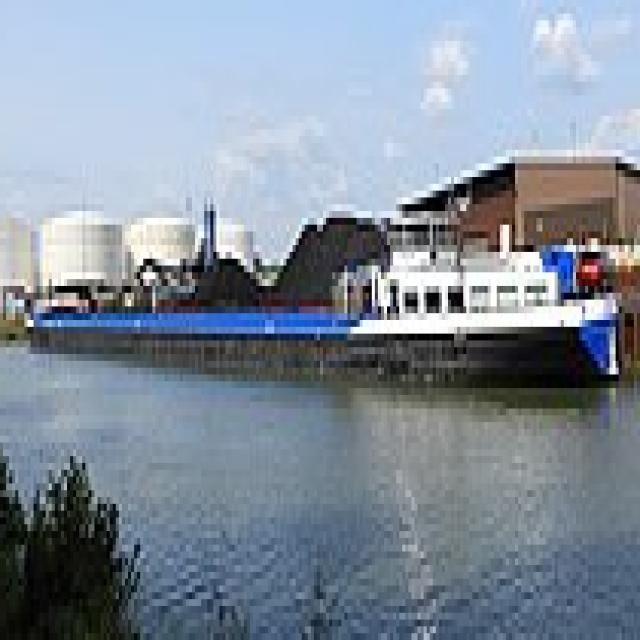Cargo: (30, 198, 628, 388)
